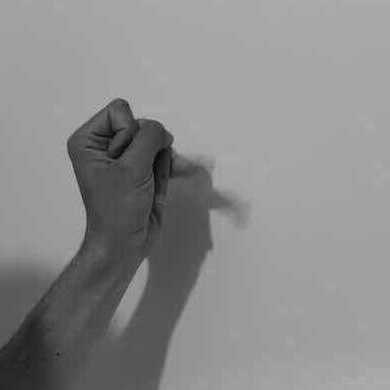J: (66, 97, 215, 266)
